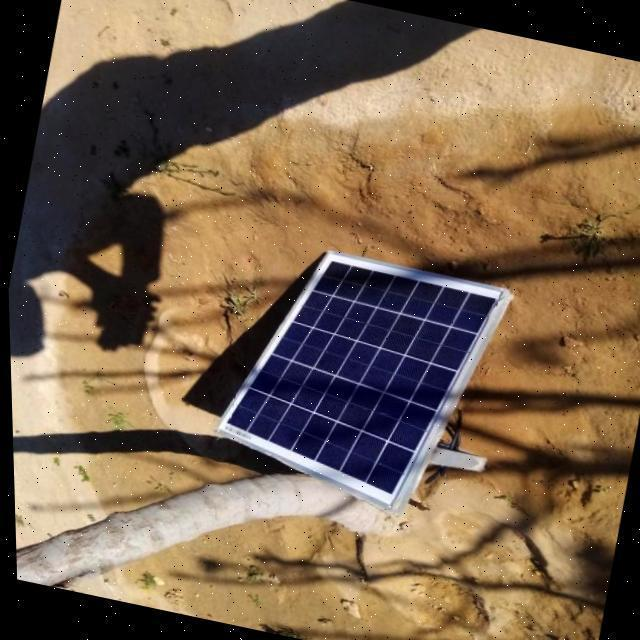Normal Solar Panel: (198, 232, 512, 526)
